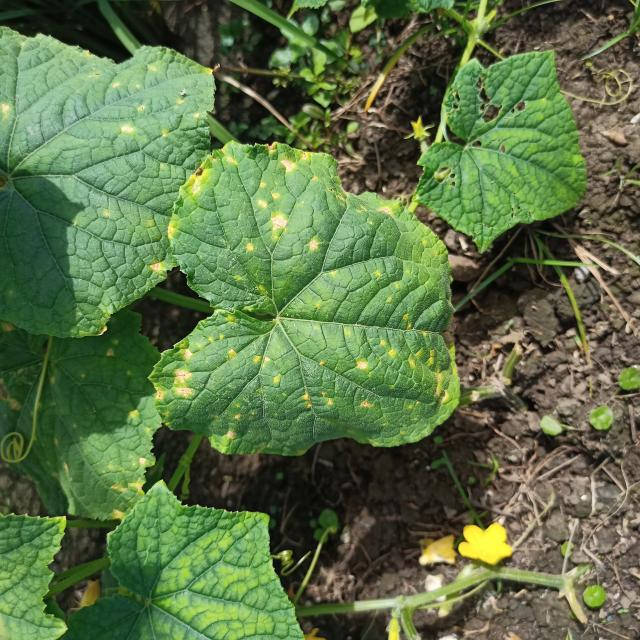disease_cucumber: (166, 145, 450, 446), (40, 341, 151, 515), (100, 61, 207, 143)
